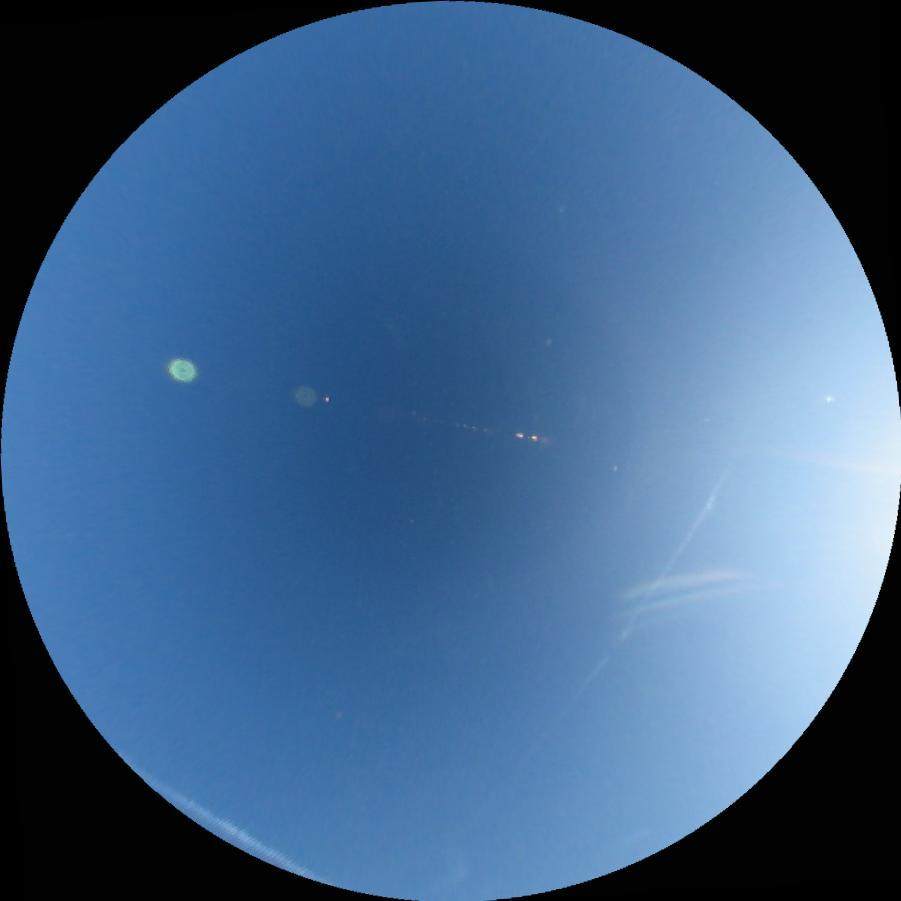contrail old: (569, 475, 730, 705), (124, 759, 334, 893)
parasite: (610, 562, 748, 600)
